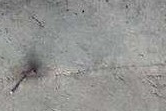Exposed reinforcement: (9, 73, 28, 95)
